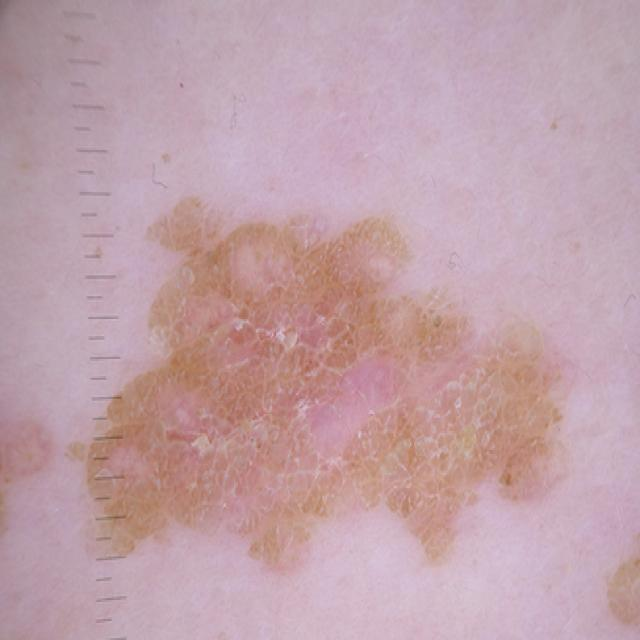Keratosis: (63, 157, 579, 612)
